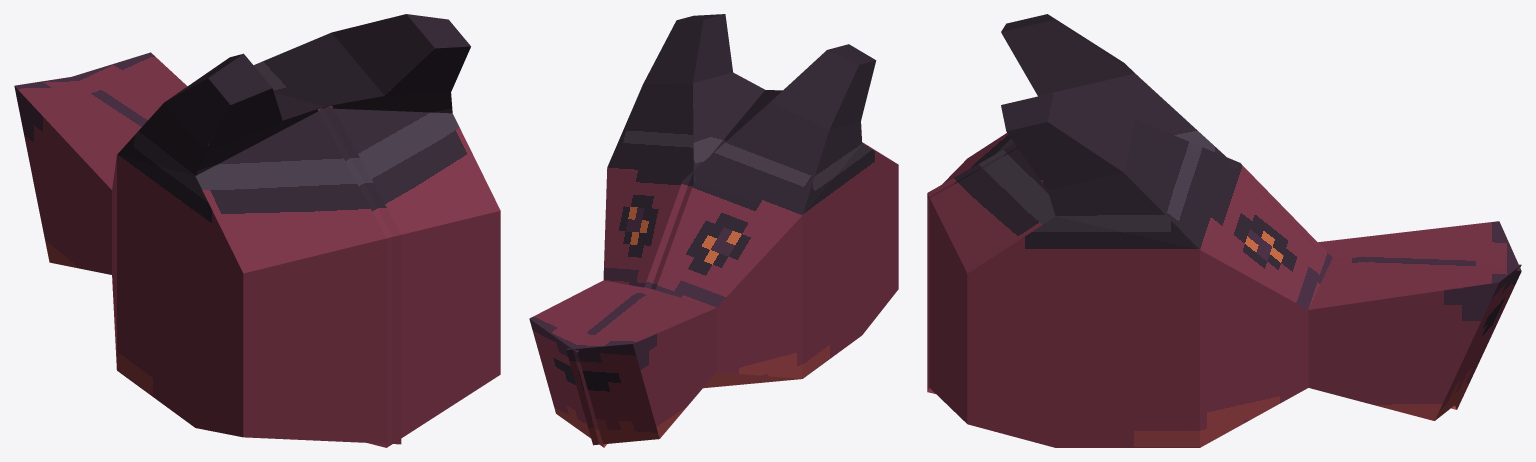
Rendered from kobold_head.glb.
The picture shows the model from 3 angles, left to right: view 1: azimuth 30°, elevation 25°; view 2: azimuth 150°, elevation 25°; view 3: azimuth 270°, elevation 25°; orthographic projection. The views are drawn at different scales.
Visible parts, largest first — view 1: Cube.083; view 2: Cube.083; view 3: Cube.083.
Part boxes in pixels (box(x1,y1,x2,y2)): Cube.083: box(14, 14, 500, 447); Cube.083: box(529, 14, 898, 447); Cube.083: box(927, 14, 1521, 447).
Bounding box in the file's own units: 1.48 × 2.17 × 3.22.
Materials: 1 (1 with a texture image).
